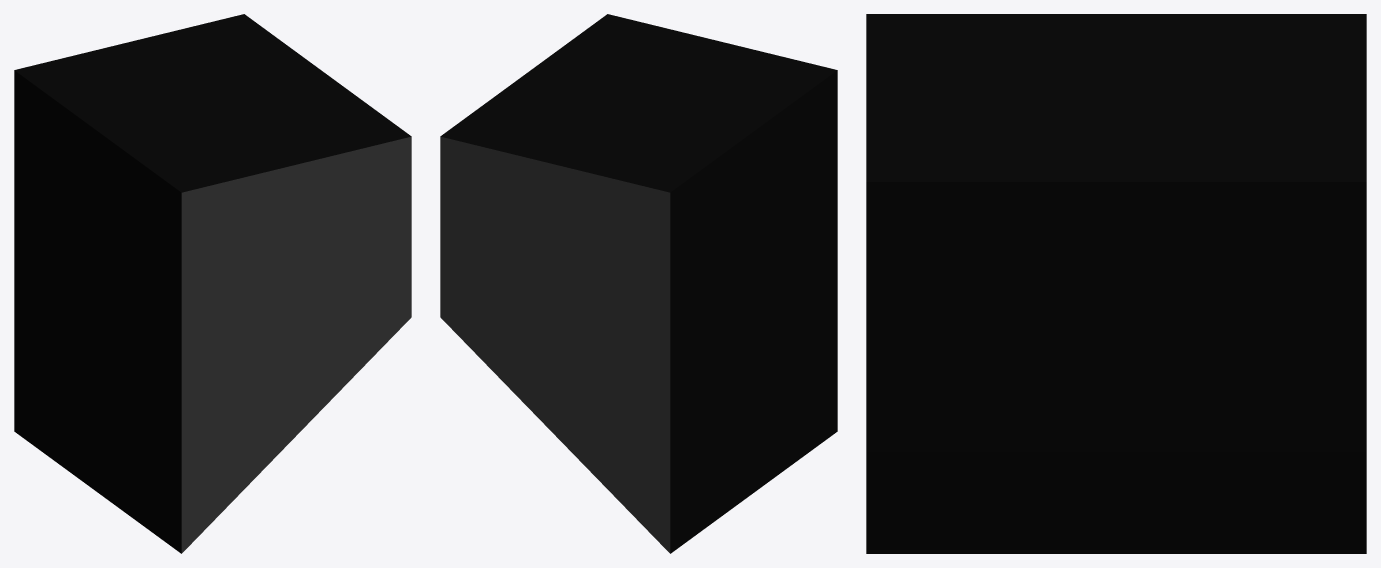
Rendered from symbol,_DeltaBlock_Black.glb.
The picture shows the model from 3 angles, left to right: view 1: azimuth 30°, elevation 25°; view 2: azimuth 150°, elevation 25°; view 3: azimuth 270°, elevation 25°; orthographic projection. The views are drawn at different scales.
Parts seen in each view (by area): view 1: ,_DeltaBlock_Black; view 2: ,_DeltaBlock_Black; view 3: ,_DeltaBlock_Black.
Boxes of the visible parts, bbox=[...] form: ,_DeltaBlock_Black: bbox=[14, 14, 411, 553]; ,_DeltaBlock_Black: bbox=[440, 14, 837, 553]; ,_DeltaBlock_Black: bbox=[866, 14, 1366, 553].
Size of what is drawn, in the model's own units: 0.0357 by 0.0536 by 0.045.
2 materials, 2 textured.
